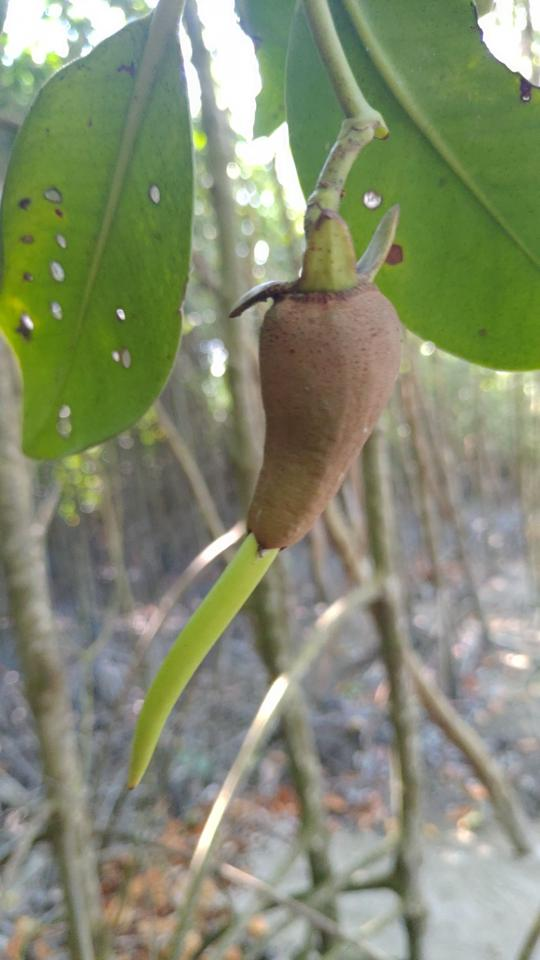mentah: (98, 195, 442, 810)
